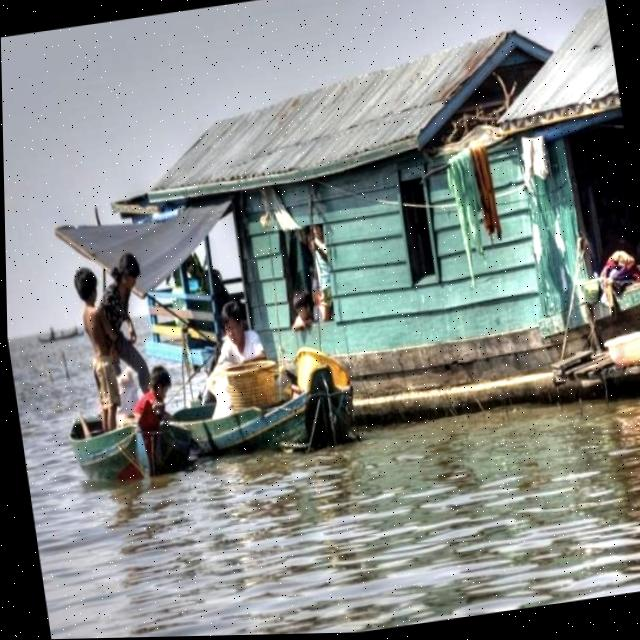civilian: (84, 243, 163, 402), (62, 256, 125, 439), (115, 353, 188, 452), (201, 287, 273, 376), (282, 287, 337, 338)
